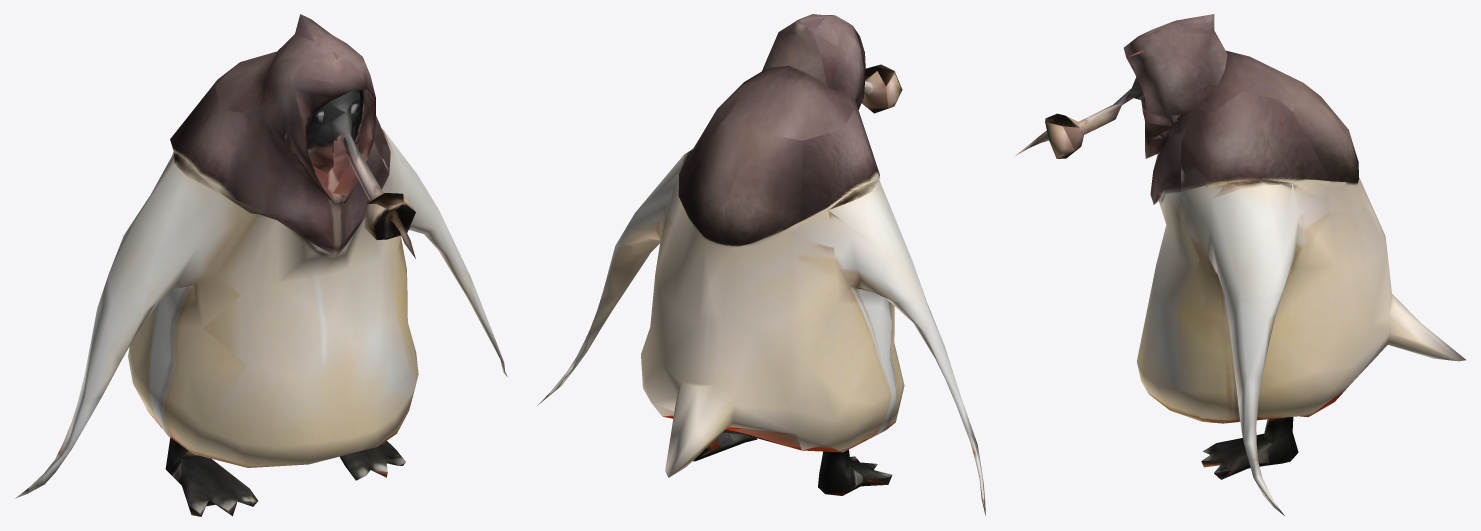
File: bosch_2.glb
3 views of the same model, side by side, from view 1: azimuth 30°, elevation 25°; view 2: azimuth 150°, elevation 25°; view 3: azimuth 270°, elevation 25° (orthographic). The views are drawn at different scales.
Visible parts, largest first — view 1: Mesh1_Mesh1.076; view 2: Mesh1_Mesh1.076; view 3: Mesh1_Mesh1.076.
Part boxes in pixels (left/top/right/bottom): Mesh1_Mesh1.076: left=15, top=14, right=507, bottom=516; Mesh1_Mesh1.076: left=537, top=14, right=985, bottom=515; Mesh1_Mesh1.076: left=1015, top=14, right=1465, bottom=515.
Bounding box in the file's own units: 2.02 × 1.88 × 1.83.
Materials: 1 (1 with a texture image).
